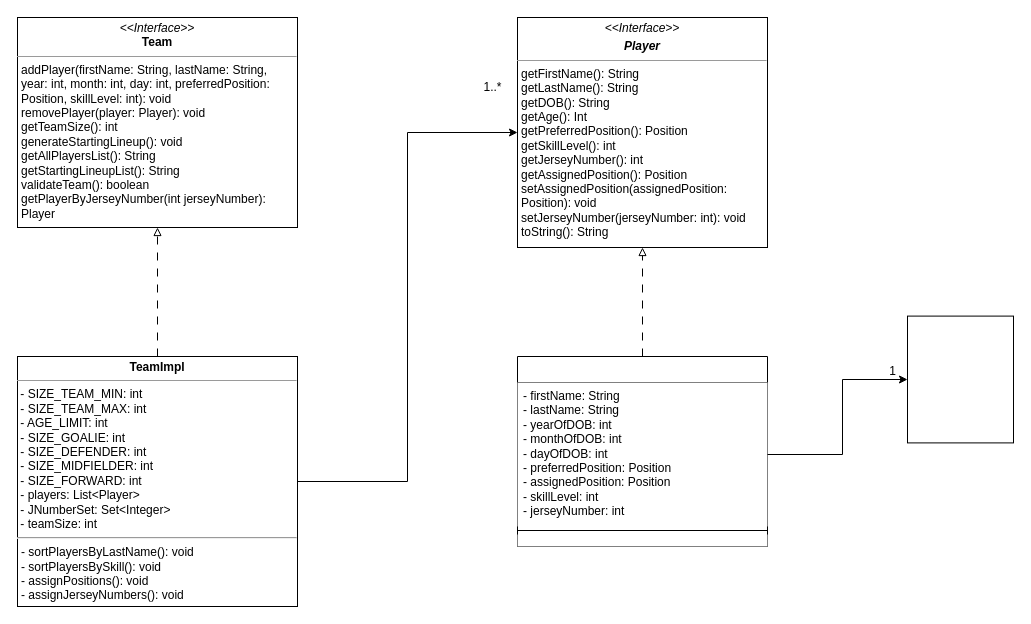
This 1031x624 diagram has some shape labels left out. The shapes that lost their labels are listed below. From the top down, each one's box as (x1, y1, x2, y2) in pixels, then its label:
(906, 315, 1014, 443): <<Enum>> Position GOALIE, DEFENDERS, MIDFIELDERS, FORWARD, BENCH
(516, 356, 768, 546): PlayerImpl
